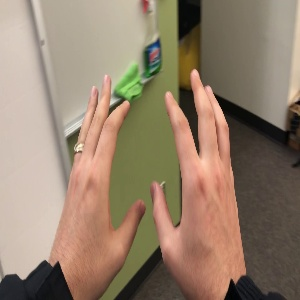hand: (150, 69, 246, 282), (58, 75, 146, 287)
